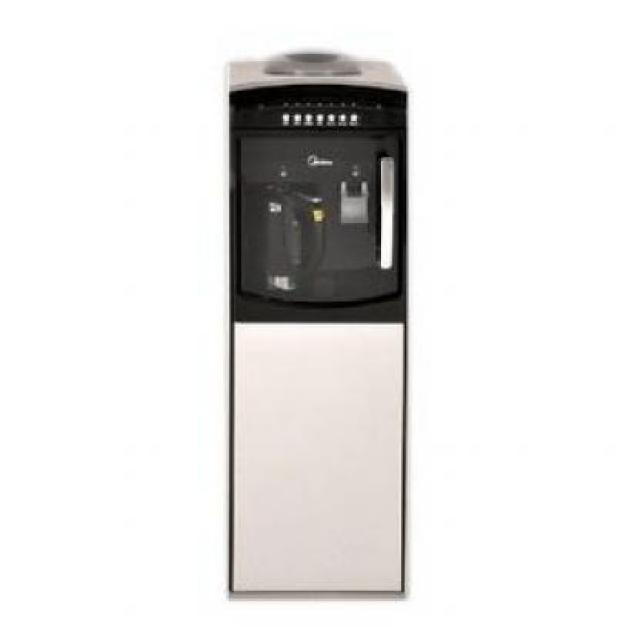cooler: (226, 43, 409, 597)
